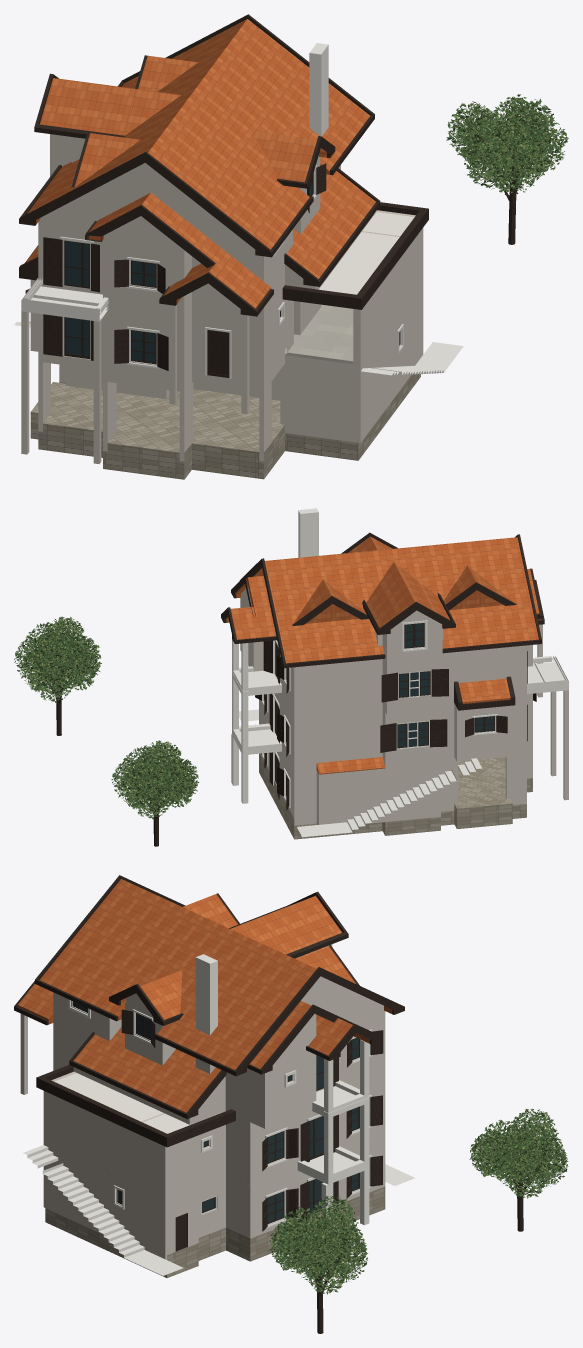
File: context-detail-b22.glb
3 views of the same model, one above another, from view 1: azimuth 30°, elevation 25°; view 2: azimuth 150°, elevation 25°; view 3: azimuth 270°, elevation 25° (orthographic). The views are drawn at different scales.
Visible parts, largest first — view 1: B22 | ÇATII.003, B22 foundation below BK, B22 | KAT 0$DUVAR, B22 | KAT 1$DUVAR, B22 | KAT 2$DUVAR, Individual folded leaves.004, B22 | KAT 3$DUVAR, B22 | ÇATI ALIN.002, B22 | ÇATII.002, B22 | ÇATI ALIN.001, B22 | KAT 1$TAVAN, B22 | ÇATI ALIN (+13 smaller); view 2: B22 | ÇATII.003, B22 | KAT 1$DUVAR, B22 | KAT 0$DUVAR, B22 | KAT 2$DUVAR, B22 foundation below BK, Individual folded leaves.004, Individual folded leaves.003, B22 | ek dalgalar, B22 | ÇATI ALIN.002, B22 | ek dalgalar.001, B22 | PENCERE_KAPI$SHUTTER.001, B22 | KAT 3$DUVAR (+13 smaller); view 3: B22 | ÇATII.003, B22 | KAT 1$DUVAR, B22 | KAT 0$DUVAR, B22 | KAT 2$DUVAR, B22 | ek dalgalar, Individual folded leaves.004, B22 | ÇATII.002, B22 | ÇATI ALIN.002, Individual folded leaves.003, B22 foundation below BK, B22 | ÇATI ALIN.001, B22 | KAT 3$DUVAR (+11 smaller).
Boxes of the visible parts, x1=… form: B22 | ÇATII.003: x1=27, y1=19, x2=369, y2=262; B22 foundation below BK: x1=30, y1=374, x2=420, y2=479; B22 | KAT 0$DUVAR: x1=21, y1=290, x2=423, y2=464; B22 | KAT 1$DUVAR: x1=30, y1=210, x2=423, y2=413; B22 | KAT 2$DUVAR: x1=38, y1=165, x2=374, y2=318; Individual folded leaves.004: x1=446, y1=94, x2=568, y2=194; B22 | KAT 3$DUVAR: x1=40, y1=134, x2=320, y2=248; B22 | ÇATI ALIN.002: x1=19, y1=14, x2=374, y2=264; B22 | ÇATII.002: x1=25, y1=164, x2=375, y2=308; B22 | ÇATI ALIN.001: x1=19, y1=81, x2=380, y2=316; B22 | KAT 1$TAVAN: x1=319, y1=212, x2=414, y2=294; B22 | ÇATI ALIN: x1=19, y1=202, x2=428, y2=309; B22 | ÇATII.003: x1=227, y1=536, x2=539, y2=663; B22 | KAT 1$DUVAR: x1=259, y1=624, x2=542, y2=771; B22 | KAT 0$DUVAR: x1=259, y1=690, x2=568, y2=825; B22 | KAT 2$DUVAR: x1=240, y1=597, x2=532, y2=715; B22 foundation below BK: x1=259, y1=753, x2=532, y2=839; Individual folded leaves.004: x1=14, y1=616, x2=101, y2=703; Individual folded leaves.003: x1=111, y1=740, x2=199, y2=819; B22 | ek dalgalar: x1=231, y1=696, x2=482, y2=837; B22 | ÇATI ALIN.002: x1=221, y1=532, x2=541, y2=664; B22 | ek dalgalar.001: x1=232, y1=656, x2=568, y2=799; B22 | PENCERE_KAPI$SHUTTER.001: x1=255, y1=693, x2=536, y2=756; B22 | KAT 3$DUVAR: x1=241, y1=587, x2=443, y2=661; B22 | ÇATII.003: x1=40, y1=879, x2=355, y2=1069; B22 | KAT 1$DUVAR: x1=20, y1=1014, x2=385, y2=1202; B22 | KAT 0$DUVAR: x1=43, y1=1133, x2=385, y2=1259; B22 | KAT 2$DUVAR: x1=53, y1=992, x2=385, y2=1128; B22 | ek dalgalar: x1=23, y1=1101, x2=414, y2=1275; Individual folded leaves.004: x1=269, y1=1196, x2=367, y2=1294; B22 | ÇATII.002: x1=17, y1=984, x2=392, y2=1112; B22 | ÇATI ALIN.002: x1=35, y1=875, x2=404, y2=1075; Individual folded leaves.003: x1=469, y1=1108, x2=568, y2=1198; B22 foundation below BK: x1=45, y1=1186, x2=385, y2=1277; B22 | ÇATI ALIN.001: x1=14, y1=979, x2=404, y2=1119; B22 | KAT 3$DUVAR: x1=125, y1=944, x2=383, y2=1065.
Size of the model in its own units: 28.79 by 14.71 by 25.87.
12 materials, 12 textured.
